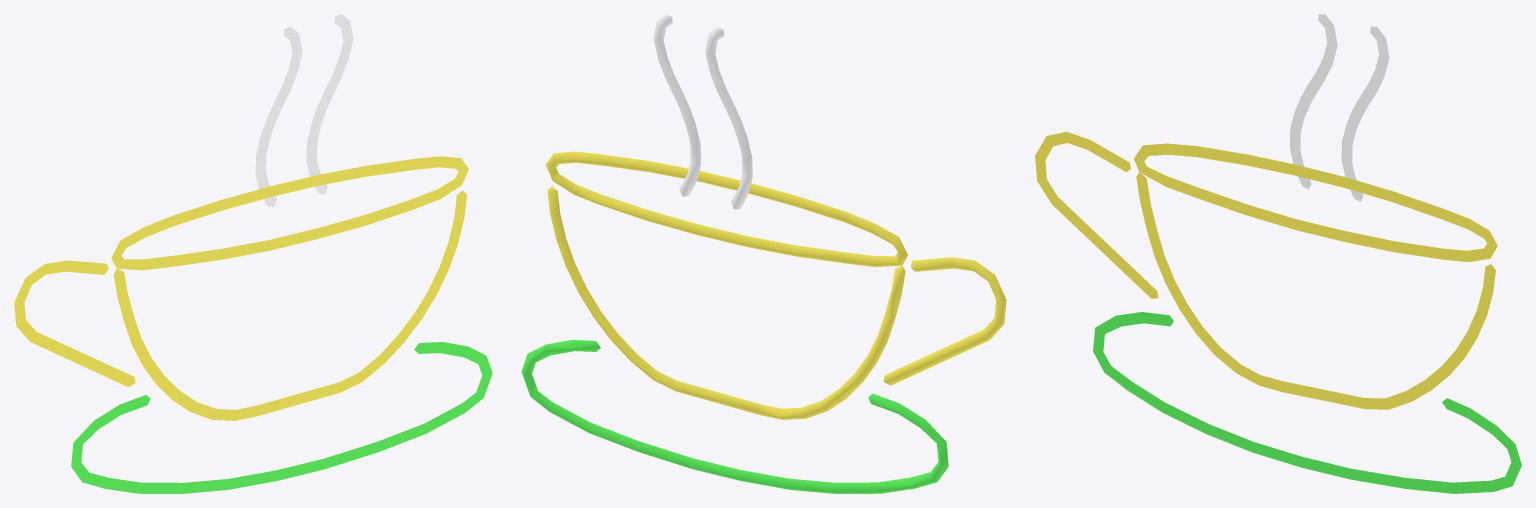
File: ps2_save-icons_friendstheonewithallthetrivia.glb
3 views of the same model, side by side, from view 1: azimuth 30°, elevation 25°; view 2: azimuth 150°, elevation 25°; view 3: azimuth 330°, elevation 25° (orthographic).
Visible parts, largest first — view 1: icon1.ico; view 2: icon1.ico; view 3: icon1.ico.
Boxes of the visible parts, left/top/right/bottom form: icon1.ico: left=14, top=14, right=492, bottom=493; icon1.ico: left=521, top=14, right=1006, bottom=493; icon1.ico: left=1035, top=14, right=1521, bottom=493.
Size of the model in its own units: 5 by 4.46 by 0.1309.
Materials: 1 (1 with a texture image).
